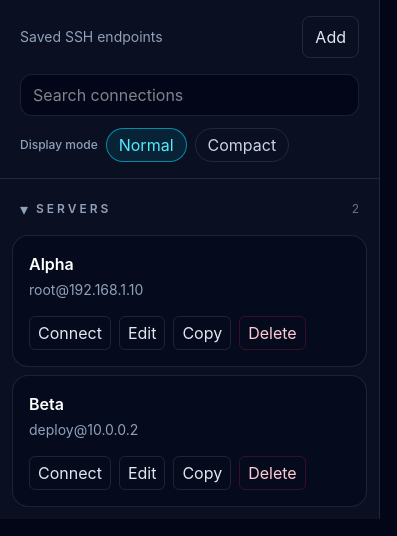
Test: ConnectionList › filters connections in real time by name, host, and username
Step 1. Type "192" into the field labelled "Search connections" → [190, 95], box [20,74,359,116]
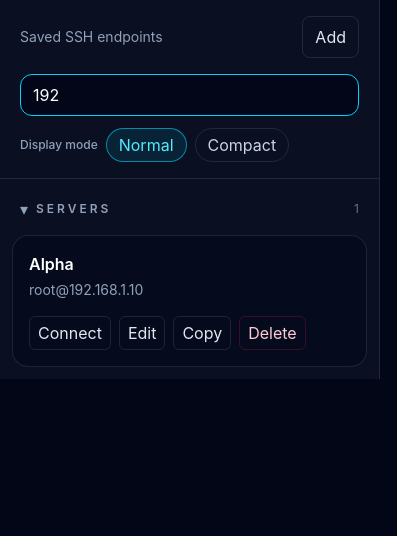
Expected: the text "Alpha" is shown, [29,252,74,276]
Now the button "Beta" is gone
